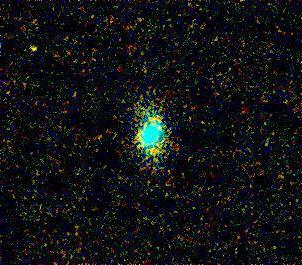star: (18, 34, 48, 64)
